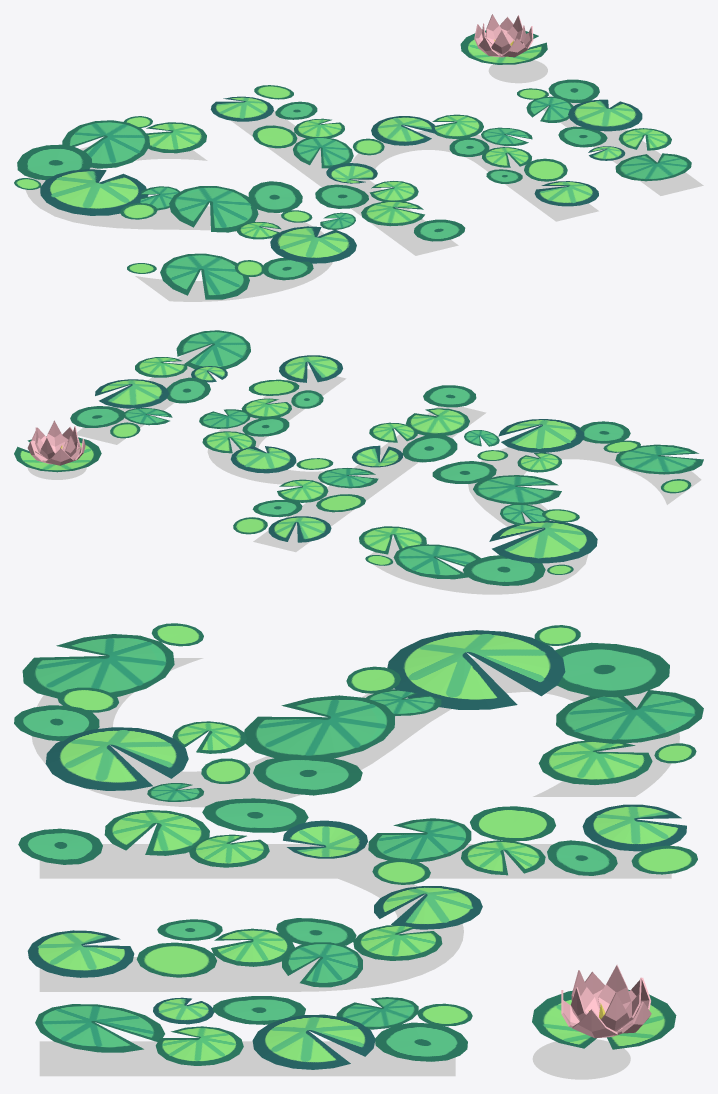
The model's file is word_lilys1.gltf.
3 views of the same model, one above another, from view 1: azimuth 30°, elevation 25°; view 2: azimuth 150°, elevation 25°; view 3: azimuth 270°, elevation 25° (orthographic). The views are drawn at different scales.
Visible parts, largest first — view 1: Shi, Circle.009, Lilypads.009, Lilypads.001, Lilypads.006, Circle.001, Lilypads.019, Circle.006, pink_water_lily_2_open.017, Lilypads.045, Lilypads.018, Circle.004 (+28 smaller); view 2: Shi, Circle.009, Circle.001, Lilypads.045, Lilypads.001, Lilypads.009, Lilypads.006, Lilypads.019, pink_water_lily_2_open.017, Circle.006, Circle.004, Lilypads.024 (+29 smaller); view 3: Shi, Circle.009, Lilypads.009, Lilypads.006, Circle.001, Lilypads.001, Circle.006, Lilypads.019, pink_water_lily_2_open.017, Lilypads.045, Circle.005, Lilypads.018 (+36 smaller).
Part boxes in pixels (<box>): Shi: <box>25,60,703,301</box>; Circle.009: <box>40,169,148,215</box>; Lilypads.009: <box>169,186,258,232</box>; Lilypads.001: <box>62,120,149,168</box>; Lilypads.006: <box>160,253,249,299</box>; Circle.001: <box>270,226,356,263</box>; Lilypads.019: <box>17,144,92,180</box>; Circle.006: <box>568,99,642,131</box>; pink_water_lily_2_open.017: <box>474,14,533,57</box>; Lilypads.045: <box>615,153,691,181</box>; Lilypads.018: <box>146,122,206,153</box>; Circle.004: <box>371,116,436,145</box>; Shi: <box>27,345,701,594</box>; Circle.009: <box>489,521,597,563</box>; Circle.001: <box>498,419,584,452</box>; Lilypads.045: <box>176,330,250,371</box>; Lilypads.001: <box>393,544,480,579</box>; Lilypads.009: <box>473,475,561,504</box>; Lilypads.006: <box>615,444,703,474</box>; Lilypads.019: <box>463,555,545,585</box>; pink_water_lily_2_open.017: <box>27,420,85,465</box>; Circle.006: <box>95,379,168,408</box>; Circle.004: <box>230,446,296,473</box>; Lilypads.024: <box>406,408,469,435</box>; Shi: <box>31,658,679,1079</box>; Circle.009: <box>387,630,565,709</box>; Lilypads.009: <box>244,695,395,758</box>; Lilypads.006: <box>22,634,174,698</box>; Circle.001: <box>45,727,188,790</box>; Lilypads.001: <box>556,690,703,743</box>; Circle.006: <box>252,1014,375,1069</box>; Lilypads.019: <box>555,642,669,697</box>; pink_water_lily_2_open.017: <box>561,964,651,1038</box>; Lilypads.045: <box>35,1004,164,1052</box>; Circle.005: <box>27,930,134,977</box>; Lilypads.018: <box>538,740,652,784</box>.
Size of the model in its own units: 2.99 by 0.2355 by 1.97.
2 materials, 2 textured.
